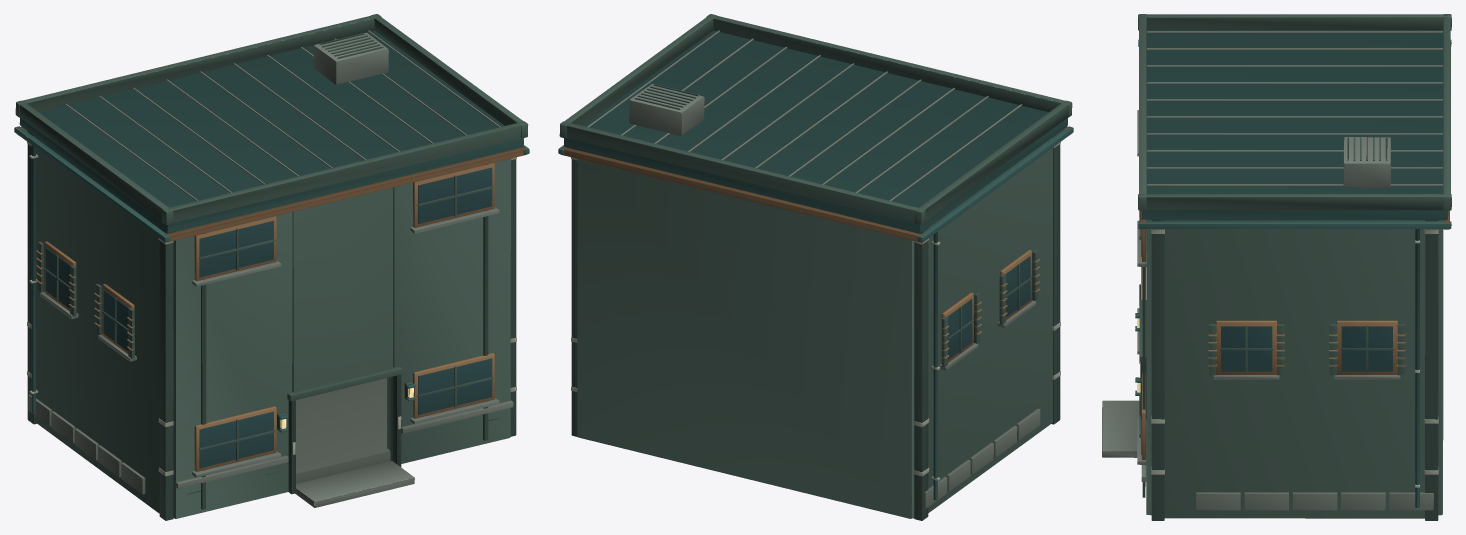
Rendered from kf-relay-balanced.glb.
3 renders of one model, left to right at view 1: azimuth 30°, elevation 25°; view 2: azimuth 150°, elevation 25°; view 3: azimuth 270°, elevation 25°, orthographic. The views are drawn at different scales.
Parts seen in each view (by area): view 1: Shell Painted plaster, Roof Roof metal, RoofDetail Timber trim, Shell Foundation, Shell Timber trim, Shell Window glass, Shell Warm wood, RoofDetail Brushed hardware, Shell Roof metal, RoofDetail Foundation; view 2: Shell Painted plaster, Roof Roof metal, RoofDetail Timber trim, Shell Timber trim, Shell Warm wood, RoofDetail Brushed hardware, Shell Roof metal, Shell Foundation, RoofDetail Foundation, Shell Window glass; view 3: Shell Painted plaster, Roof Roof metal, RoofDetail Timber trim, Shell Timber trim, Shell Foundation, RoofDetail Brushed hardware, Shell Window glass, Shell Roof metal, Shell Warm wood, RoofDetail Foundation, Shell Brushed hardware.
Boxes of the visible parts, x1,y1,x2,y2 form: Shell Painted plaster: (35, 137, 510, 518); Roof Roof metal: (19, 30, 523, 233); RoofDetail Timber trim: (15, 14, 528, 224); Shell Foundation: (28, 207, 513, 507); Shell Timber trim: (27, 131, 516, 520); Shell Window glass: (45, 167, 492, 468); Shell Warm wood: (17, 126, 526, 471); RoofDetail Brushed hardware: (65, 30, 500, 200); Shell Roof metal: (14, 126, 529, 432); RoofDetail Foundation: (313, 32, 388, 84); Shell Painted plaster: (577, 137, 1052, 518); Roof Roof metal: (564, 30, 1067, 233); RoofDetail Timber trim: (559, 14, 1072, 224); Shell Timber trim: (571, 132, 1060, 520); Shell Warm wood: (561, 127, 1070, 362); RoofDetail Brushed hardware: (587, 30, 1022, 200); Shell Roof metal: (558, 126, 1073, 500); Shell Foundation: (911, 300, 1040, 518); RoofDetail Foundation: (629, 84, 704, 135); Shell Window glass: (947, 256, 1030, 359); Shell Painted plaster: (1146, 219, 1443, 518); Roof Roof metal: (1141, 30, 1448, 220); RoofDetail Timber trim: (1138, 14, 1451, 210); Shell Timber trim: (1139, 210, 1438, 520); Shell Foundation: (1102, 110, 1433, 510); RoofDetail Brushed hardware: (1147, 31, 1442, 185); Shell Window glass: (1141, 229, 1392, 454); Shell Roof metal: (1135, 39, 1451, 507); Shell Warm wood: (1140, 210, 1449, 459); RoofDetail Foundation: (1343, 137, 1390, 187); Shell Brushed hardware: (1139, 229, 1438, 487).
Size of the model in its own units: 10.88 by 9.41 by 8.69.
